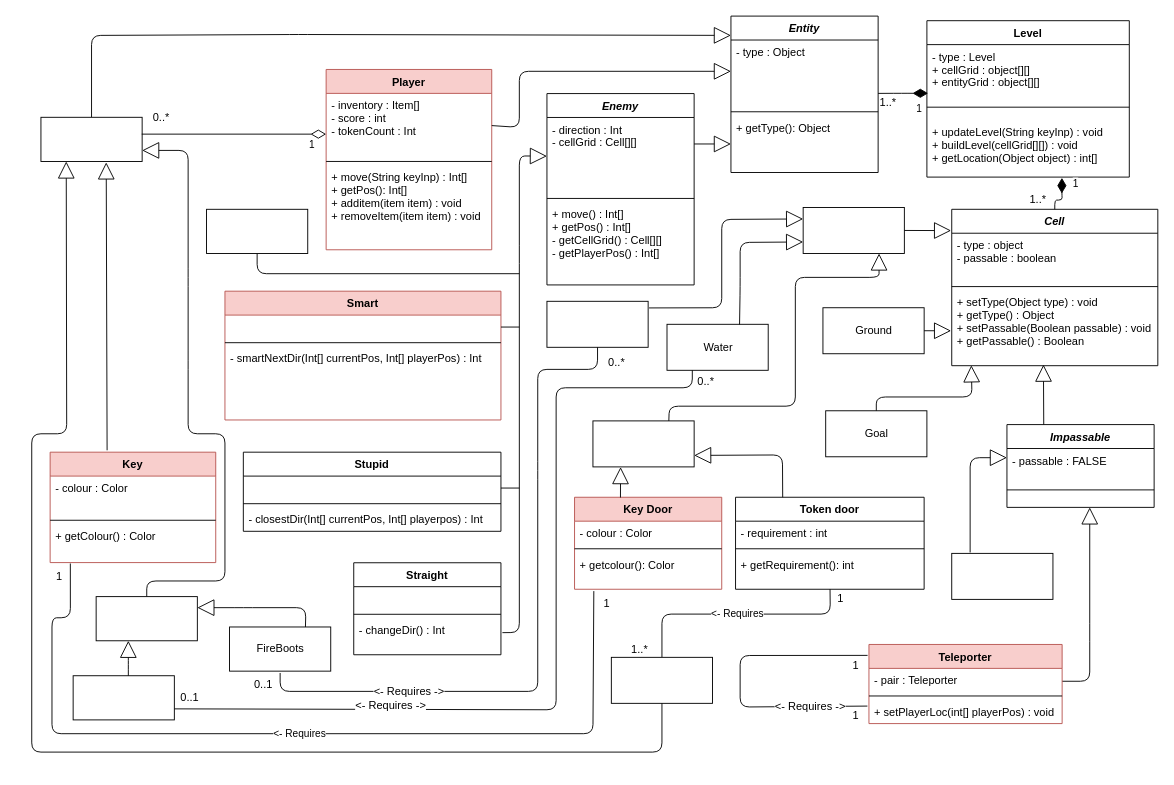
Some shapes in this 1174 by 785 pixel diagram are drawn without their labels. The centre of each missing label's shape, as x and y in pixels:
Door: point (643, 443)
Equipment: point (146, 618)
Fire: point (597, 323)
Flippers: point (123, 697)
Hugger: point (257, 230)
Item: point (91, 138)
Obstacle: point (853, 230)
Token: point (661, 679)
Wall: point (1002, 575)
